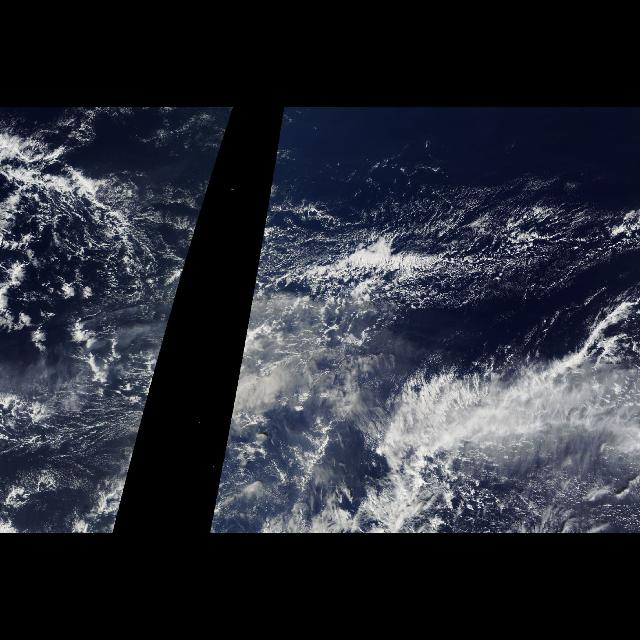Fish: (374, 292, 634, 483)
